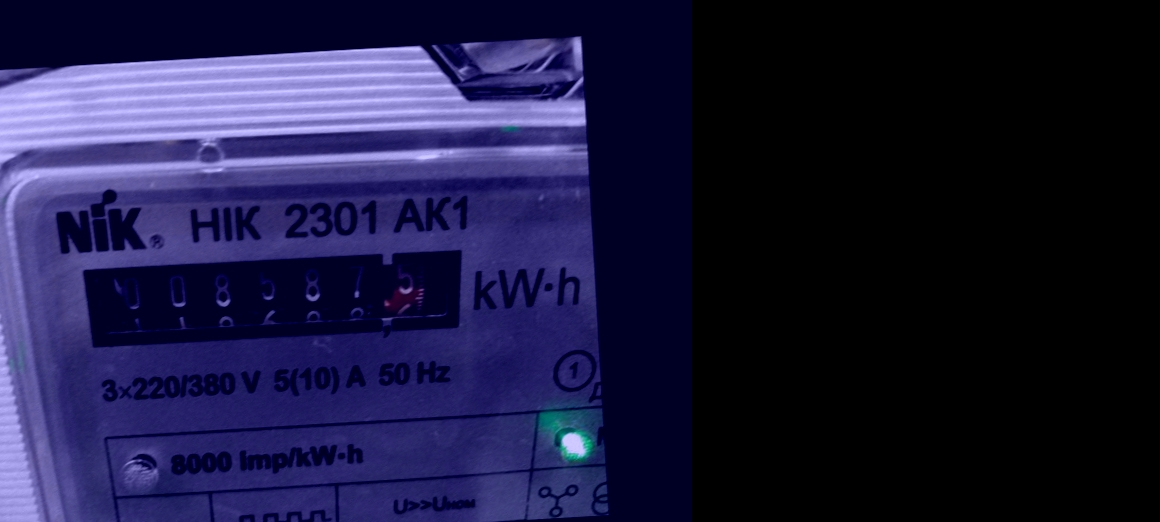0: (163, 270, 190, 311)
1: (117, 272, 144, 315)
5: (392, 257, 418, 299), (254, 265, 279, 305)
7: (343, 261, 369, 303)
8: (207, 269, 235, 311), (299, 264, 323, 306)
screen: (61, 228, 485, 371)
